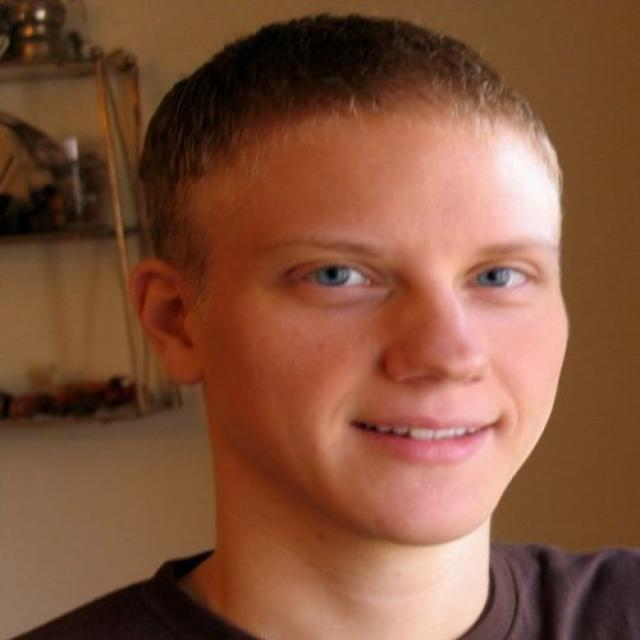earlobe: (164, 339, 202, 387)
eye: (294, 258, 388, 296), (464, 260, 542, 294)
nose: (390, 368, 514, 403)
wholeear: (128, 259, 201, 386)
